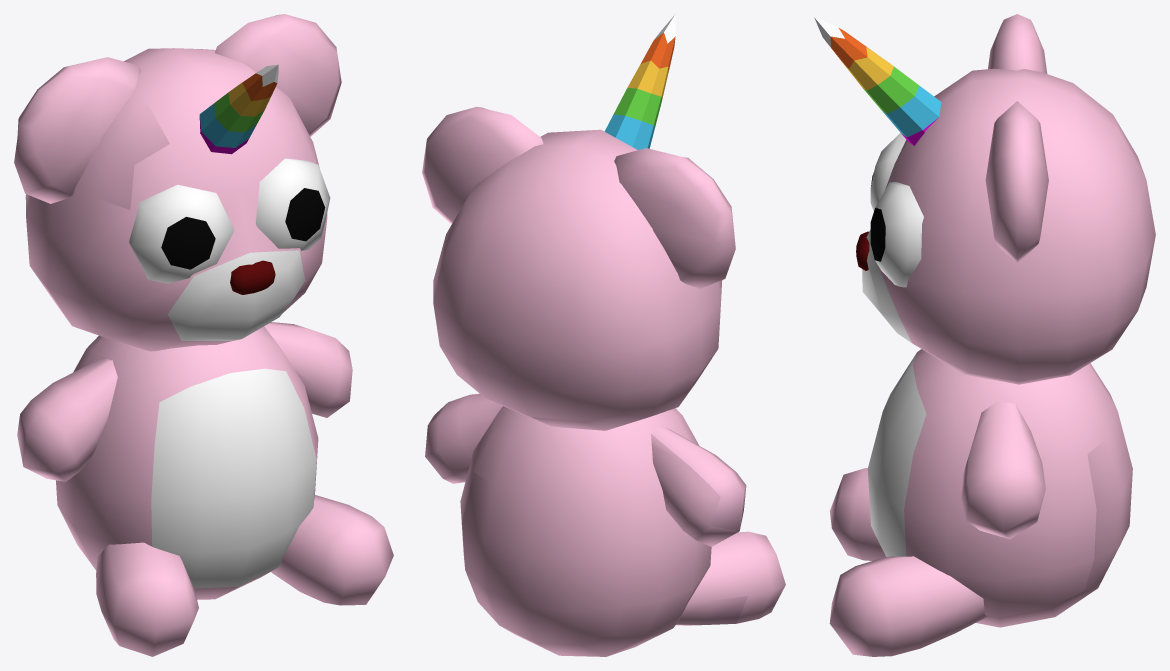
The model's file is Prop_TeddyBear_01.fbx.
The picture shows the model from 3 angles, left to right: view 1: azimuth 30°, elevation 25°; view 2: azimuth 150°, elevation 25°; view 3: azimuth 270°, elevation 25°; orthographic projection. The views are drawn at different scales.
Parts seen in each view (by area): view 1: Prop_TeddyBear_01; view 2: Prop_TeddyBear_01; view 3: Prop_TeddyBear_01.
Boxes of the visible parts, bbox=[...] form: Prop_TeddyBear_01: bbox=[14, 14, 393, 656]; Prop_TeddyBear_01: bbox=[422, 14, 785, 656]; Prop_TeddyBear_01: bbox=[814, 14, 1155, 656].
Size of the model in its own units: 30.47 by 52.52 by 27.31.
